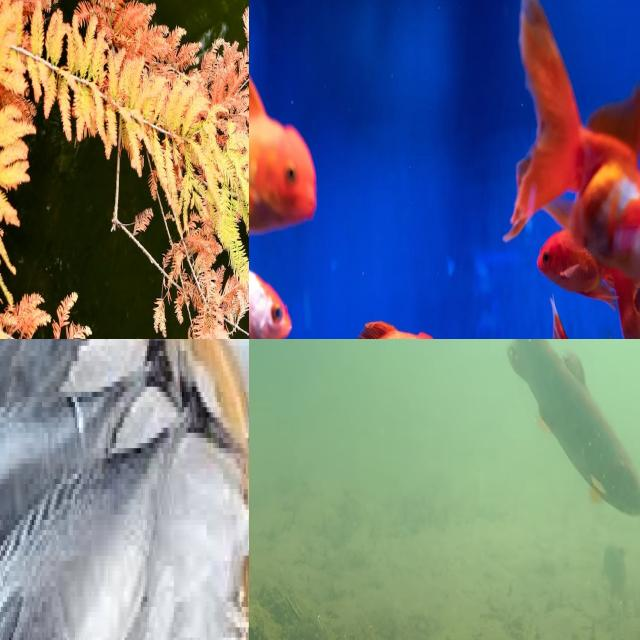fish: (0, 0, 249, 339), (0, 386, 249, 640), (249, 339, 459, 604)
